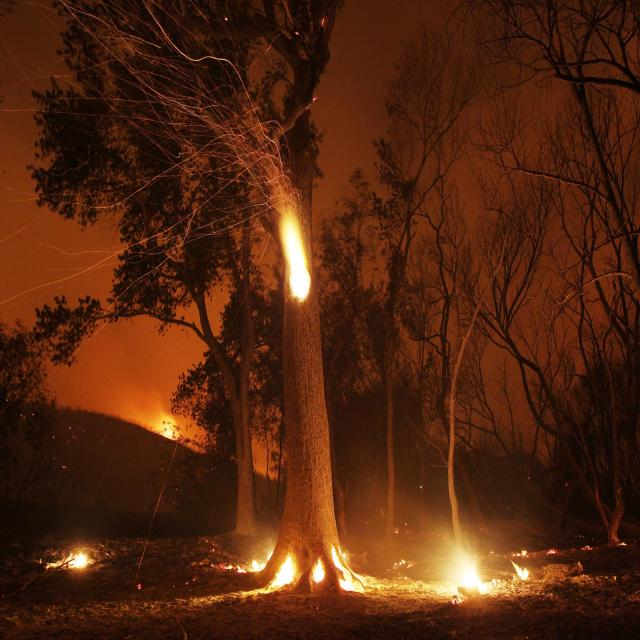Fire: (272, 186, 318, 312), (256, 542, 358, 594), (452, 538, 530, 606), (155, 406, 188, 443), (62, 548, 94, 574)
